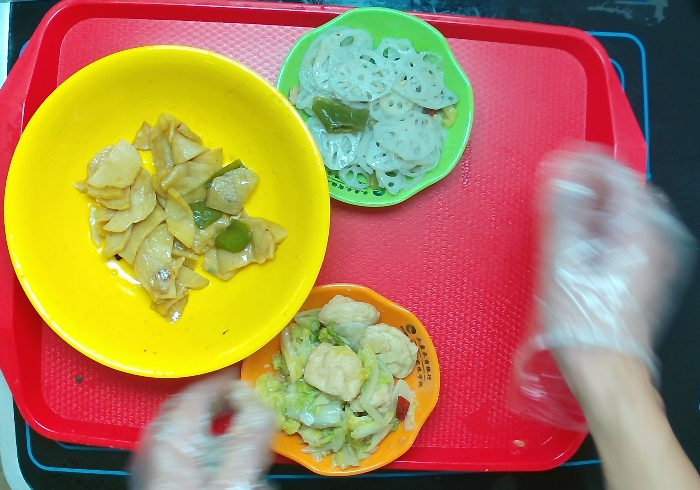YKMZ-Huang_Se_Tang_Wan: (2, 42, 333, 382)
YKMZ-Ju_Se_Ao_Bian_Wan: (225, 278, 442, 474)
YKMZ-Lv_Se_Ao_Bian_Wan: (272, 6, 476, 209)
